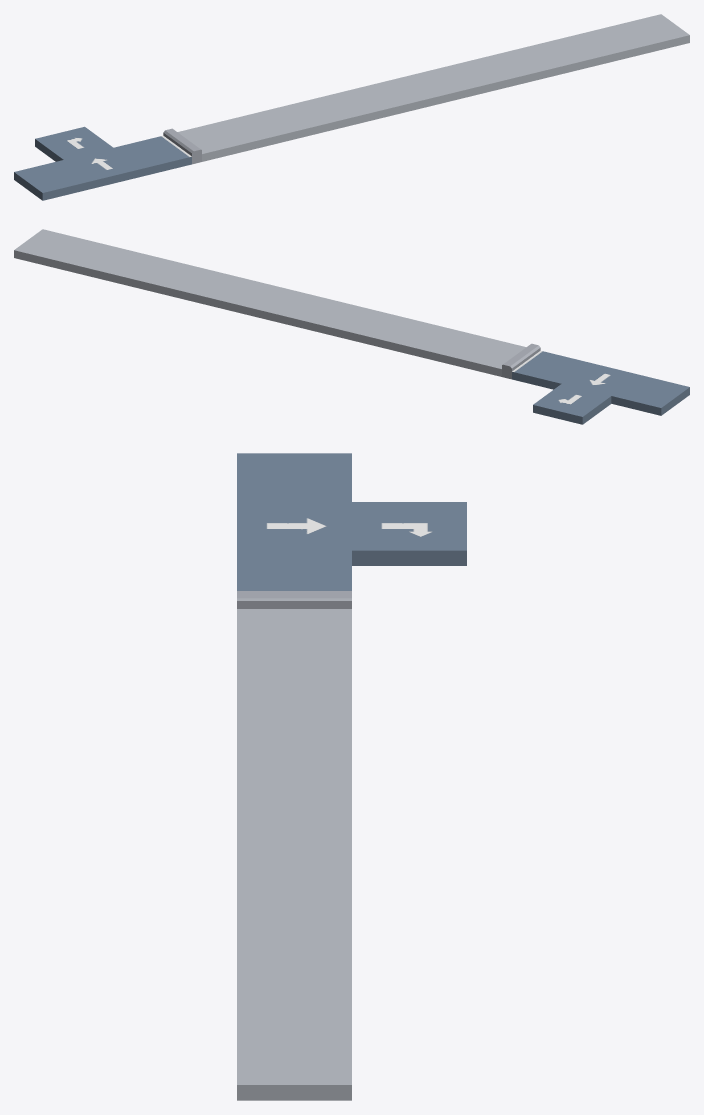
File: airportRoad.fbx
The picture shows the model from 3 angles, top to bottom: view 1: azimuth 30°, elevation 25°; view 2: azimuth 150°, elevation 25°; view 3: azimuth 270°, elevation 25°; orthographic projection. The views are drawn at different scales.
Visible parts, largest first — view 1: Cube.008, Cube.002, Cube, Cube.001, Cube.005; view 2: Cube.008, Cube.005, Cube.002, Cube.001, Cube; view 3: Cube.008, Cube.005, Cube, Cube.002, Cube.001.
Part boxes in pixels (x1=…): Cube.008: x1=163, y1=14, x2=689, y2=164; Cube.002: x1=14, y1=160, x2=92, y2=200; Cube: x1=64, y1=148, x2=142, y2=188; Cube.001: x1=114, y1=135, x2=191, y2=176; Cube.005: x1=35, y1=126, x2=113, y2=161; Cube.008: x1=14, y1=229, x2=540, y2=379; Cube.005: x1=533, y1=384, x2=611, y2=424; Cube.002: x1=611, y1=375, x2=689, y2=415; Cube.001: x1=512, y1=350, x2=589, y2=389; Cube: x1=562, y1=363, x2=639, y2=395; Cube.008: x1=237, y1=591, x2=351, y2=1100; Cube.005: x1=352, y1=502, x2=466, y2=565; Cube: x1=237, y1=502, x2=351, y2=550; Cube.002: x1=237, y1=453, x2=351, y2=501; Cube.001: x1=237, y1=550, x2=351, y2=590.
Size of the model in its own units: 26 by 0.4855 by 4.
Materials: 1 (1 with a texture image).
